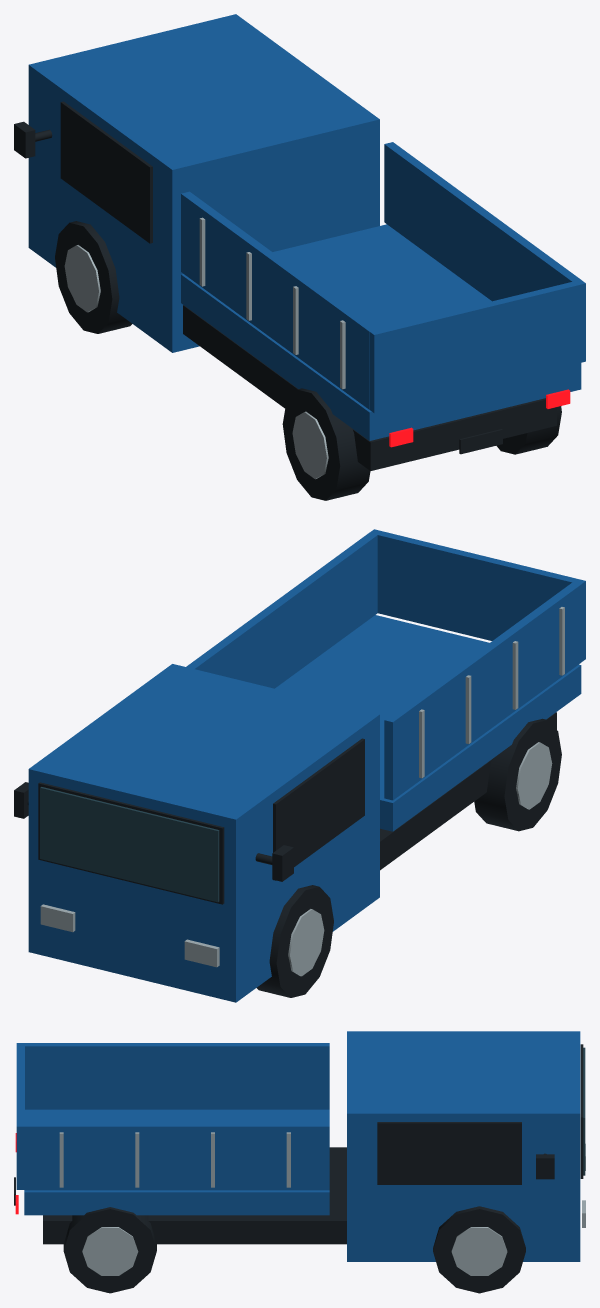
File: traffic-bluetruck.glb
3 renders of one model, top to bottom at view 1: azimuth 30°, elevation 25°; view 2: azimuth 150°, elevation 25°; view 3: azimuth 270°, elevation 25°, orthographic. The views are drawn at different scales.
Visible parts, largest first — view 1: lod_body, lod_dark, lod_metal, brake_lights; view 2: lod_body, lod_dark, lod_glass, lod_metal; view 3: lod_body, lod_dark, lod_metal, lod_glass.
Boxes of the visible parts, x1,y1,x2,y2 form: lod_body: [28, 14, 585, 440]; lod_dark: [14, 101, 561, 500]; lod_metal: [64, 217, 345, 479]; brake_lights: [389, 389, 570, 447]; lod_body: [28, 529, 585, 1002]; lod_dark: [14, 712, 561, 997]; lod_glass: [40, 787, 219, 902]; lod_metal: [40, 607, 564, 976]; lod_body: [16, 1031, 580, 1261]; lod_dark: [14, 1044, 583, 1293]; lod_metal: [59, 1132, 585, 1275]; lod_glass: [583, 1047, 585, 1175].
Bounding box in the file's own units: 2.15 × 1.68 × 4.91.
